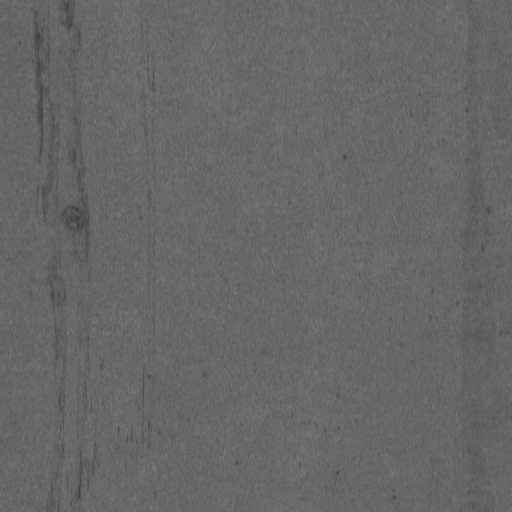zongxianghuashang: (63, 1, 95, 505), (32, 7, 62, 504)
